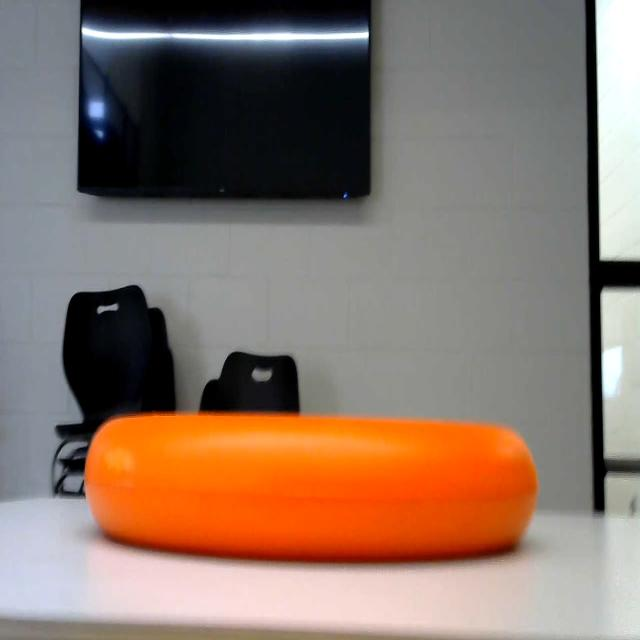note: (78, 401, 568, 572)
